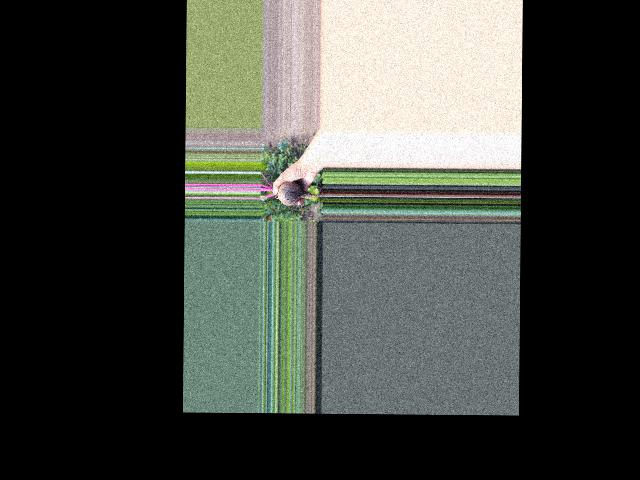beet: (260, 171, 324, 215)
